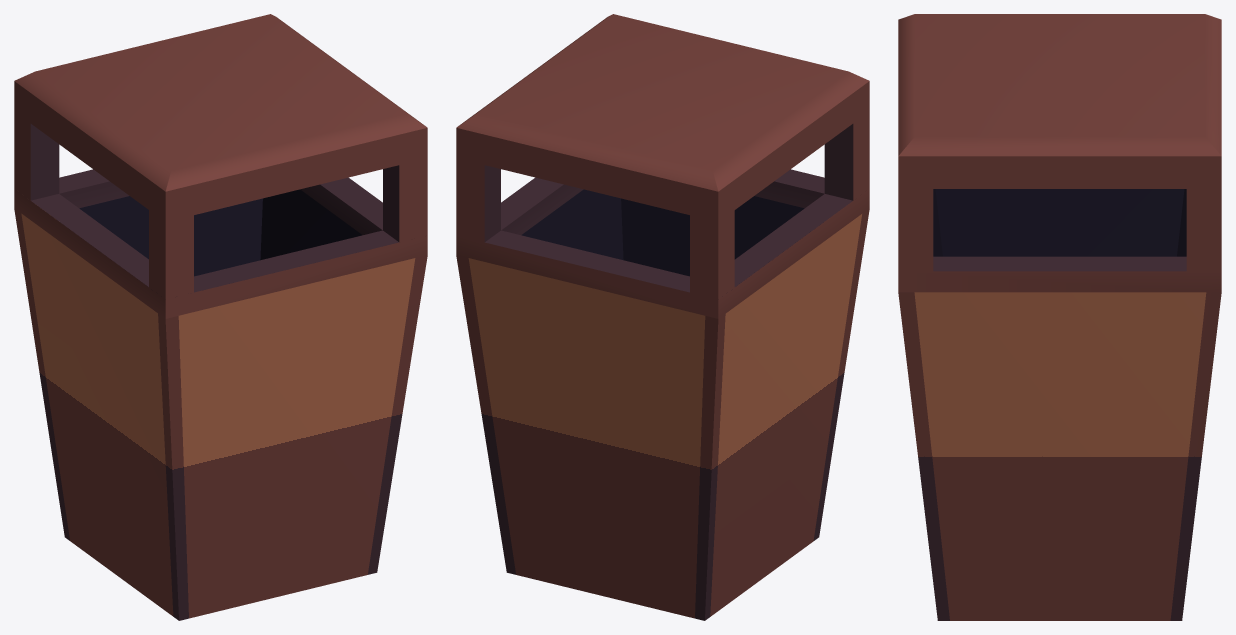
File: trashCan.fbx
3 views of the same model, side by side, from view 1: azimuth 30°, elevation 25°; view 2: azimuth 150°, elevation 25°; view 3: azimuth 270°, elevation 25° (orthographic). The views are drawn at different scales.
Visible parts, largest first — view 1: Cube.002_0; view 2: Cube.002_0; view 3: Cube.002_0.
Part boxes in pixels (x1=…): Cube.002_0: x1=14, y1=14, x2=427, y2=620; Cube.002_0: x1=456, y1=14, x2=869, y2=620; Cube.002_0: x1=898, y1=14, x2=1221, y2=620.
Size of the model in its own units: 55.11 by 92.87 by 55.11.
